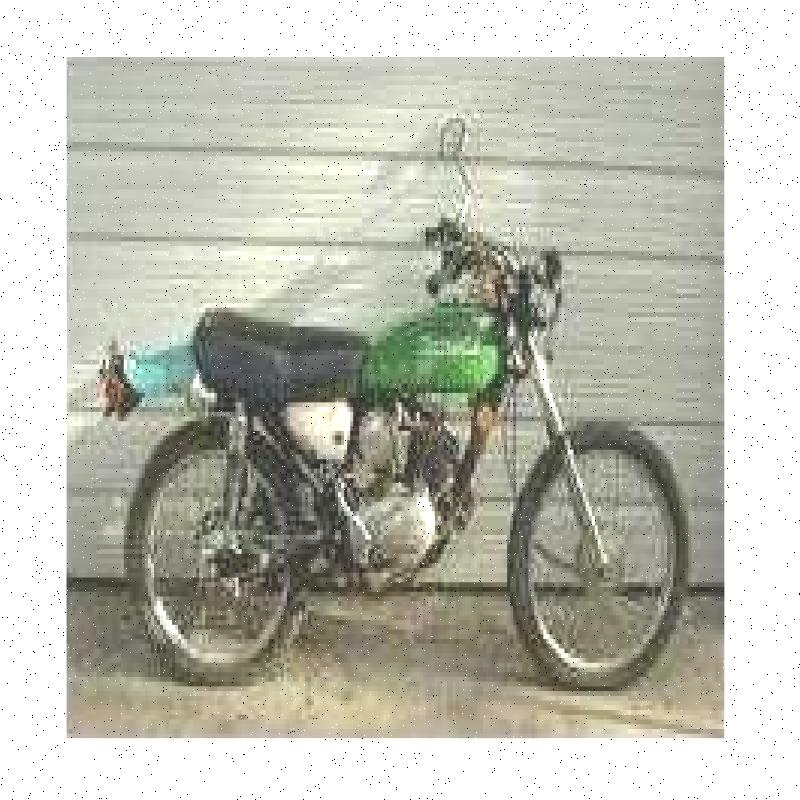bike: (97, 89, 691, 738)
